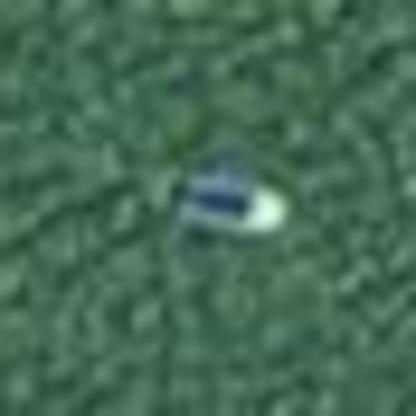ship: (172, 158, 296, 244)
